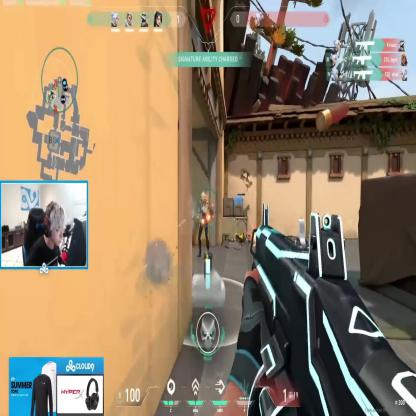enemy: (197, 191, 212, 258)
enemy_head: (200, 192, 206, 203)
